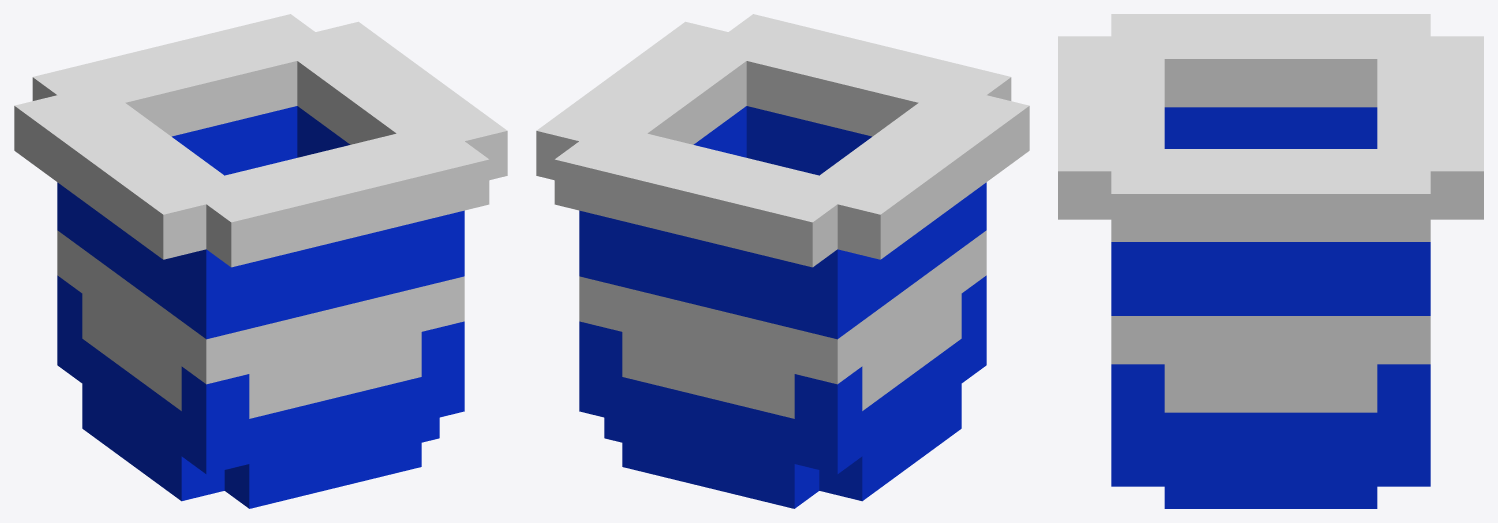
Rendered from yogurt.obj.
The picture shows the model from 3 angles, left to right: view 1: azimuth 30°, elevation 25°; view 2: azimuth 150°, elevation 25°; view 3: azimuth 270°, elevation 25°; orthographic projection. The views are drawn at different scales.
Bounding box in the file's own units: 0.8 × 0.7 × 0.8.
Materials: 1 (1 with a texture image).
